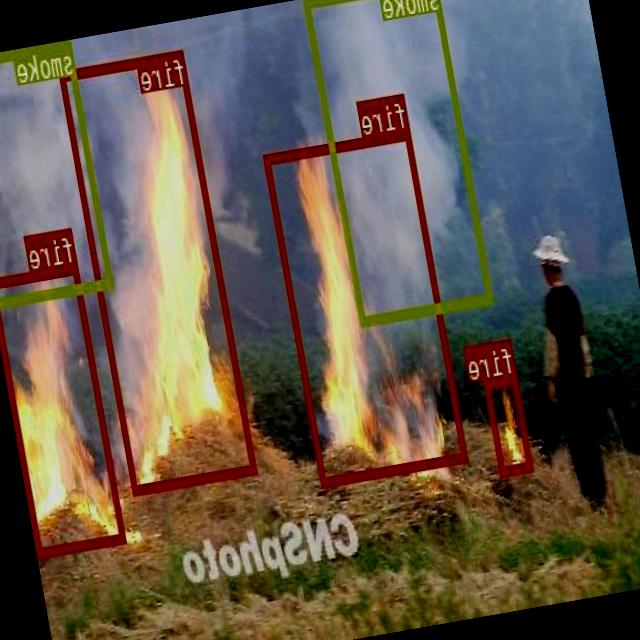fire: (60, 46, 258, 494), (264, 128, 469, 484), (0, 261, 127, 554), (484, 373, 534, 473)
smoke: (304, 0, 494, 324), (0, 39, 115, 305)
